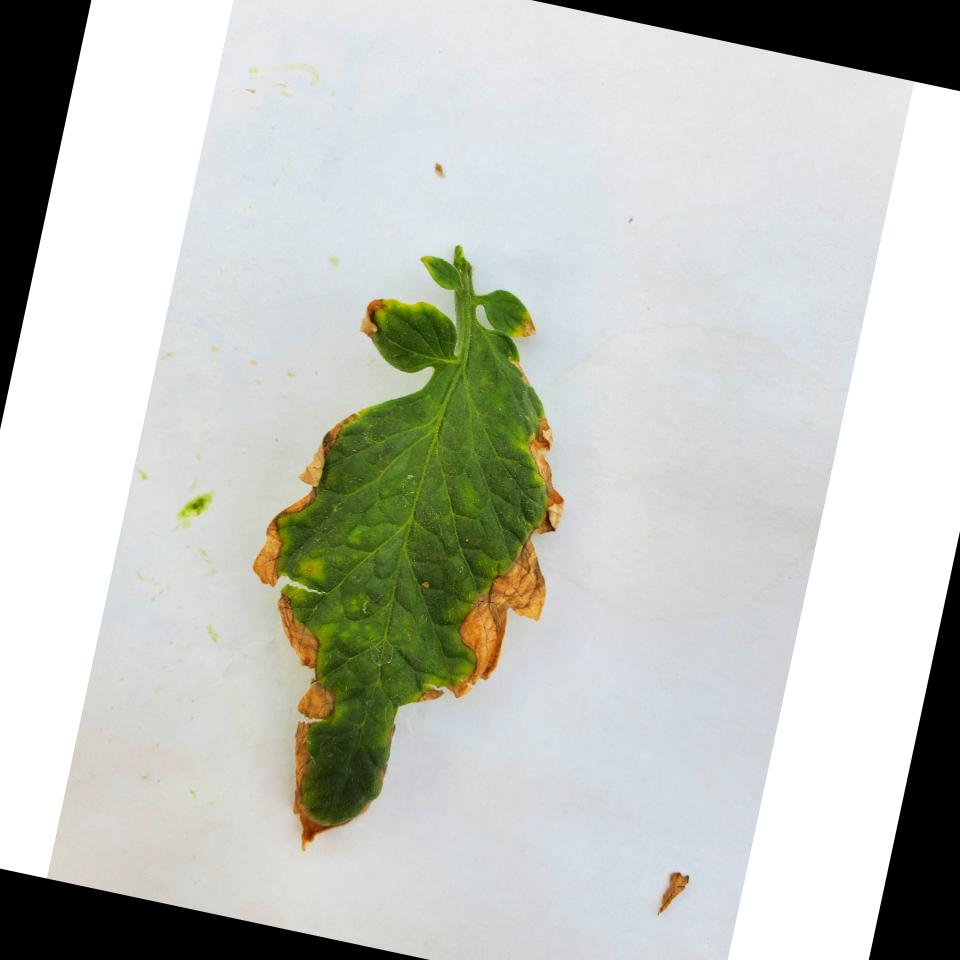tomato_bacterial_blight: (194, 205, 620, 883)
